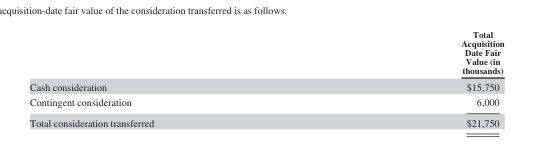table: (28, 29, 503, 127)
table column: (28, 29, 306, 127), (306, 29, 503, 127)
table column header: (28, 29, 503, 77)
table row: (28, 29, 503, 77), (28, 94, 503, 112), (28, 77, 503, 94), (28, 112, 503, 127)
